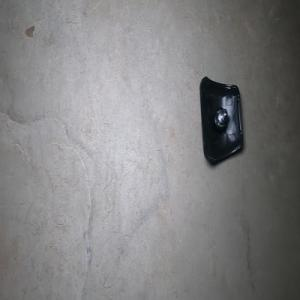LuggagePart: (198, 75, 244, 165)
